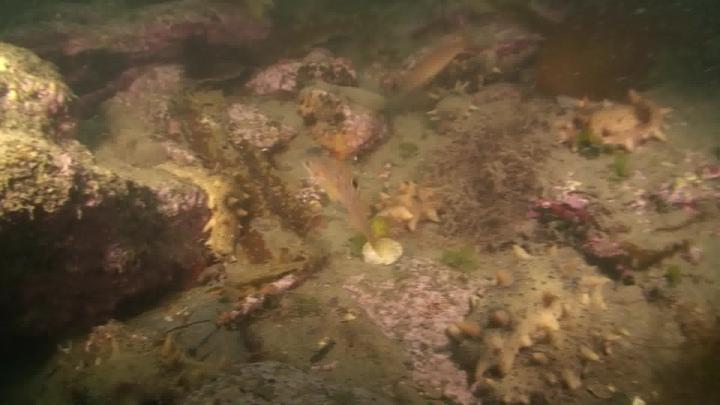holothurian: (447, 246, 602, 377), (472, 317, 628, 401), (166, 158, 250, 256), (570, 93, 670, 153), (377, 187, 449, 227), (427, 87, 478, 124), (457, 53, 505, 86)
scallop: (362, 241, 403, 266)
